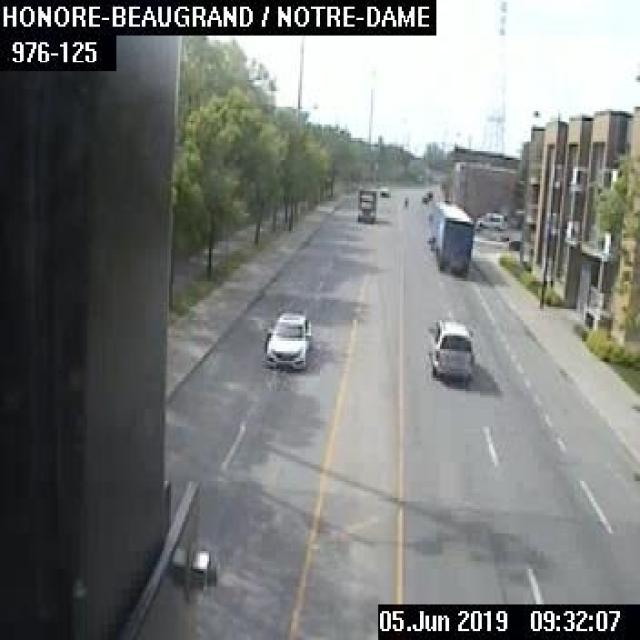pedestrian: (401, 193, 408, 208)
vehicle: (425, 199, 474, 275), (262, 311, 312, 374), (428, 317, 474, 382), (354, 188, 375, 222), (474, 210, 506, 229), (377, 185, 389, 194), (420, 192, 426, 202), (425, 189, 431, 196)
